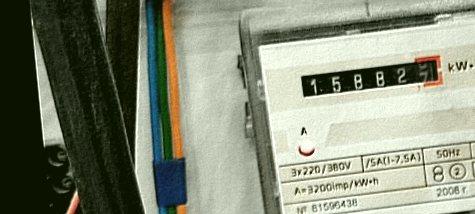1: (308, 76, 320, 94)
2: (395, 65, 408, 84)
5: (330, 74, 343, 92)
7: (418, 70, 430, 82)
8: (351, 71, 364, 89), (374, 68, 386, 87)
screen: (292, 50, 450, 106)
